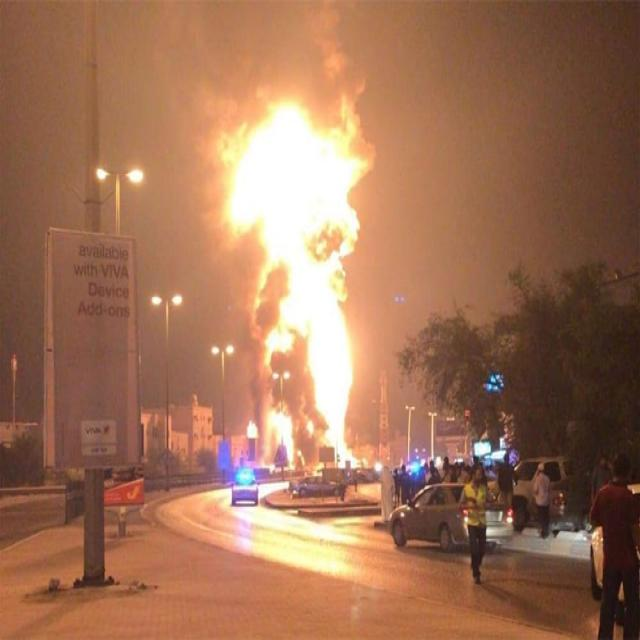Fire: (218, 104, 376, 463)
